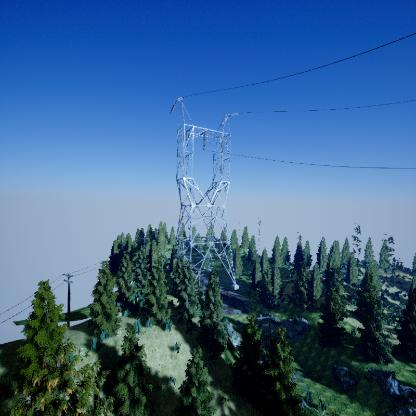tower: (169, 93, 243, 290)
